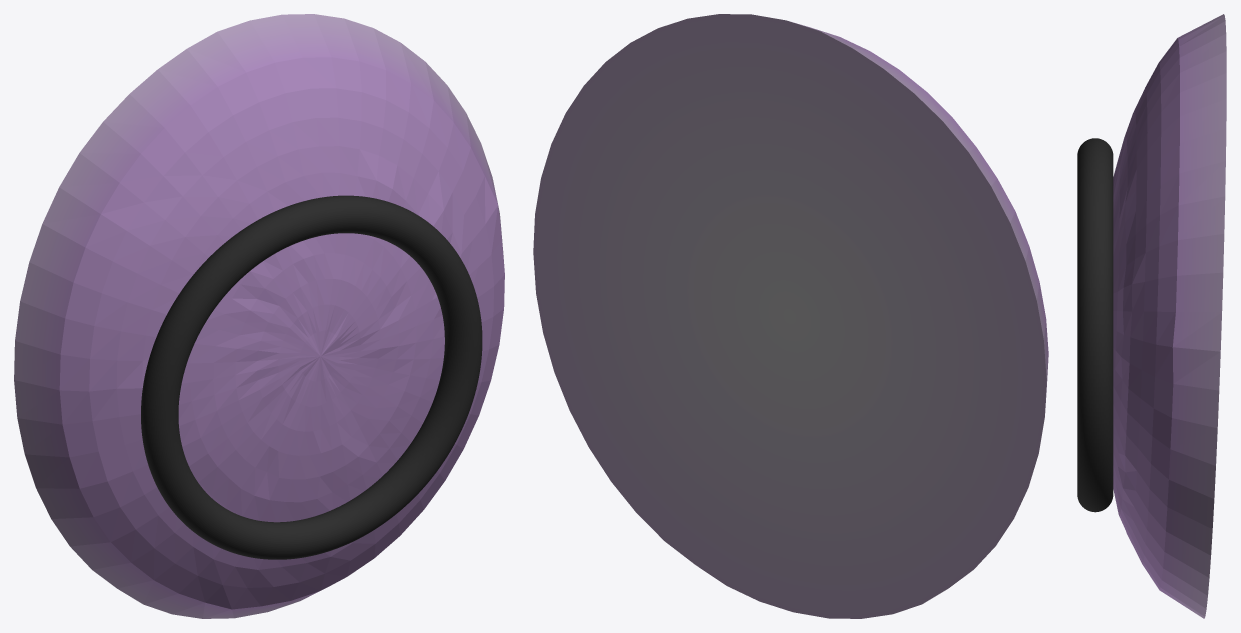
3 renders of one model, left to right at view 1: azimuth 30°, elevation 25°; view 2: azimuth 150°, elevation 25°; view 3: azimuth 270°, elevation 25°, orthographic. The views are drawn at different scales.
Parts seen in each view (by area): view 1: actual014_body_inferred_base_gray, fixed_CAD_Ring; view 2: actual014_body_inferred_base_gray; view 3: actual014_body_inferred_base_gray, fixed_CAD_Ring.
Boxes of the visible parts, <box> form: actual014_body_inferred_base_gray: <box>14,14,504,618</box>; fixed_CAD_Ring: <box>141,195,482,559</box>; actual014_body_inferred_base_gray: <box>533,14,1048,618</box>; actual014_body_inferred_base_gray: <box>1113,14,1226,618</box>; fixed_CAD_Ring: <box>1077,138,1113,512</box>.
Size of the model in its own units: 0.0182 by 0.0206 by 0.00496.
